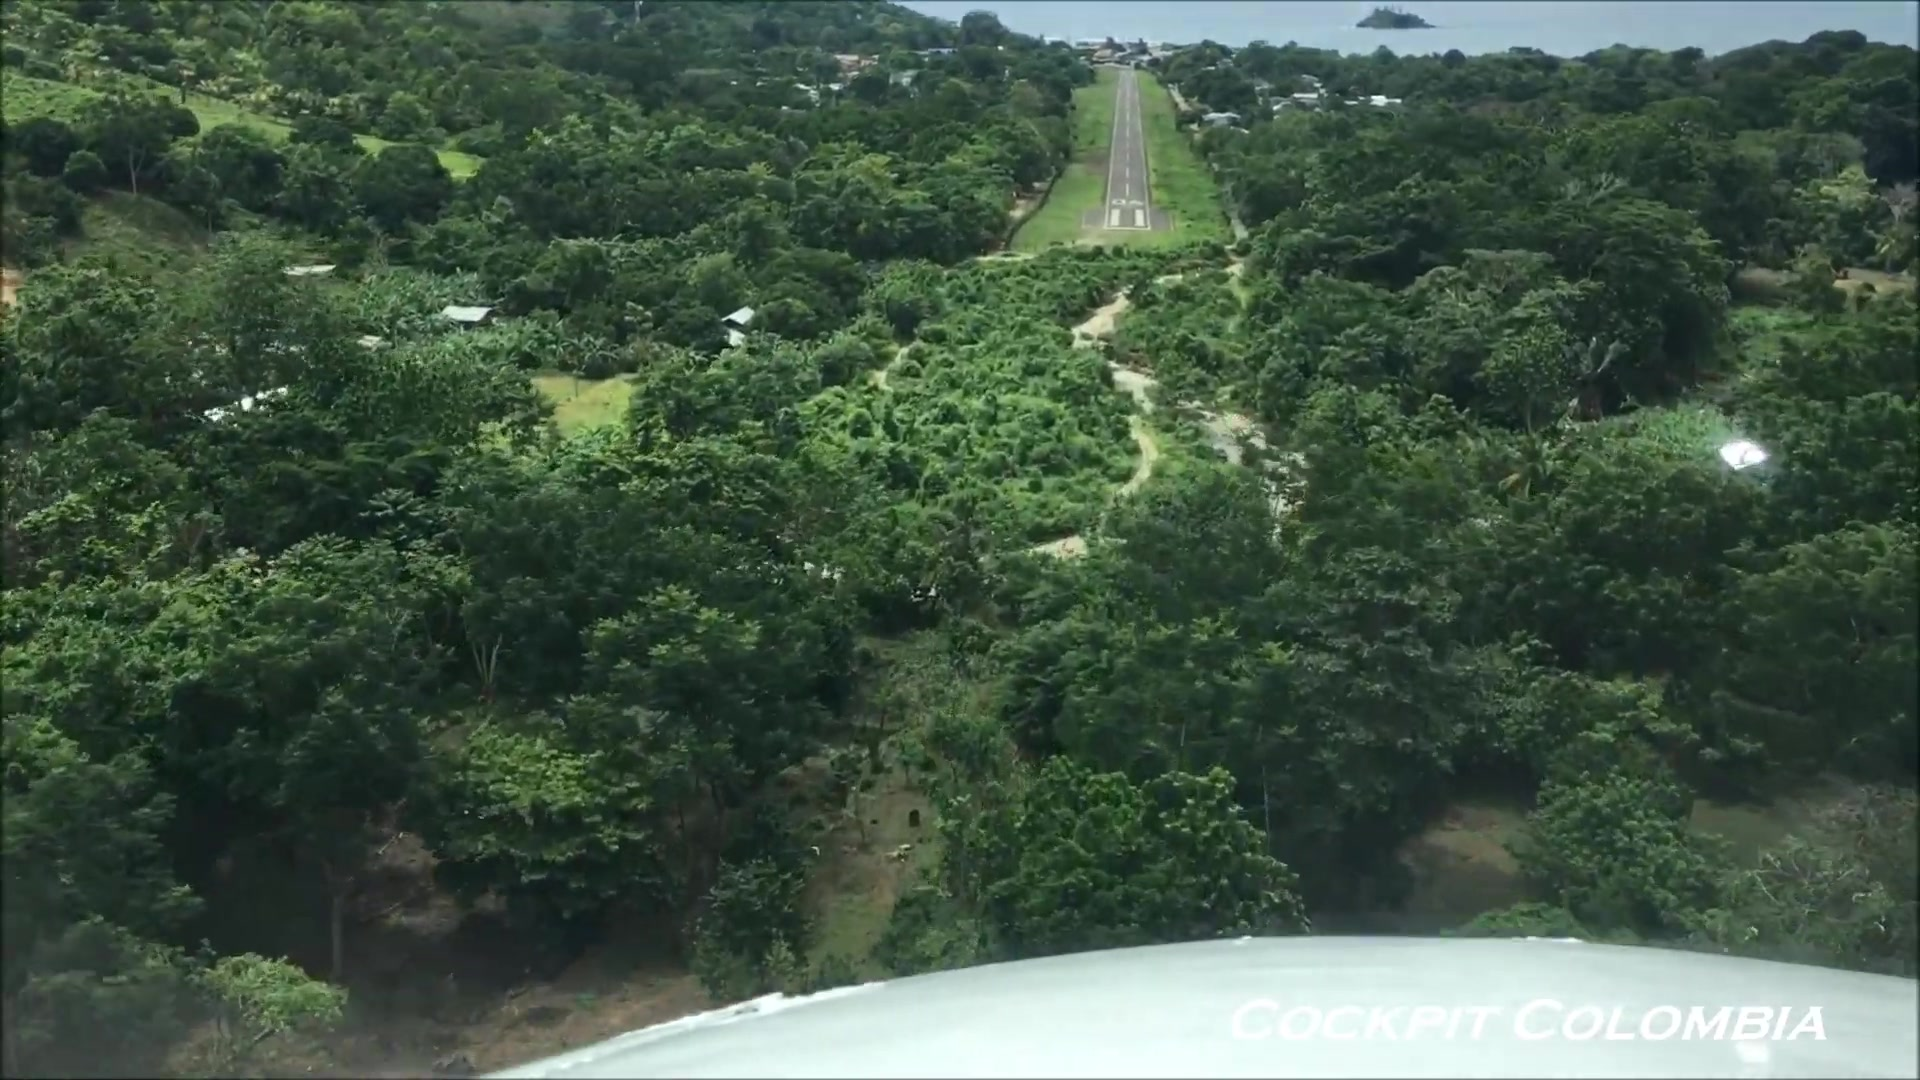entrance: (1108, 208, 1149, 228)
runway: (1102, 69, 1150, 231)
